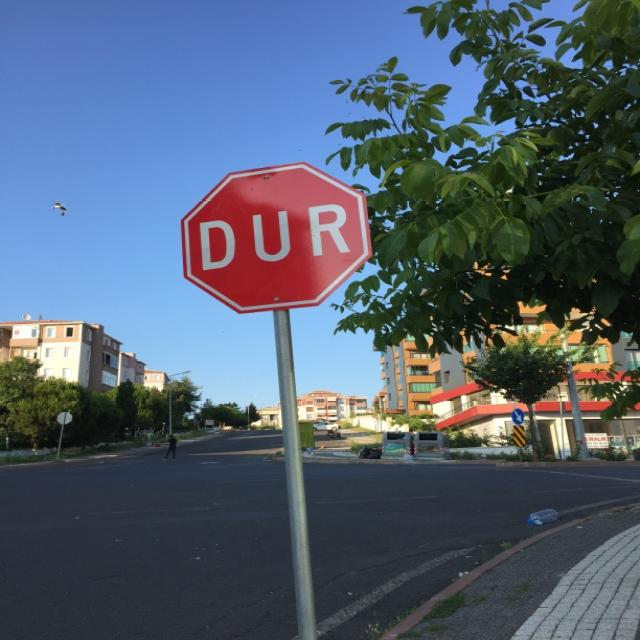dur: (182, 162, 374, 316)
